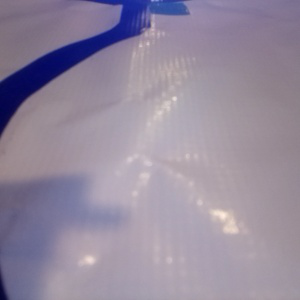bottom_right: (122, 1, 190, 15)
